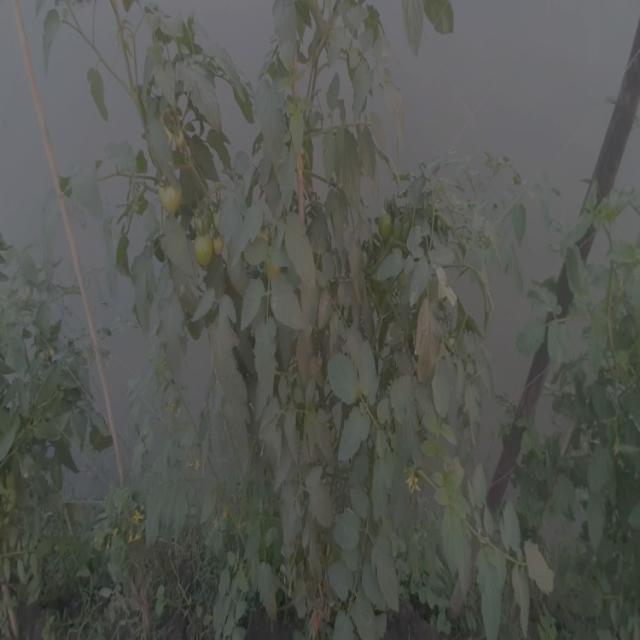tomato: (154, 176, 188, 221), (185, 225, 219, 267), (375, 209, 399, 242)
